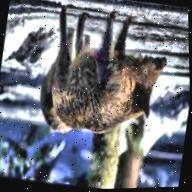boar: (26, 6, 176, 159)
